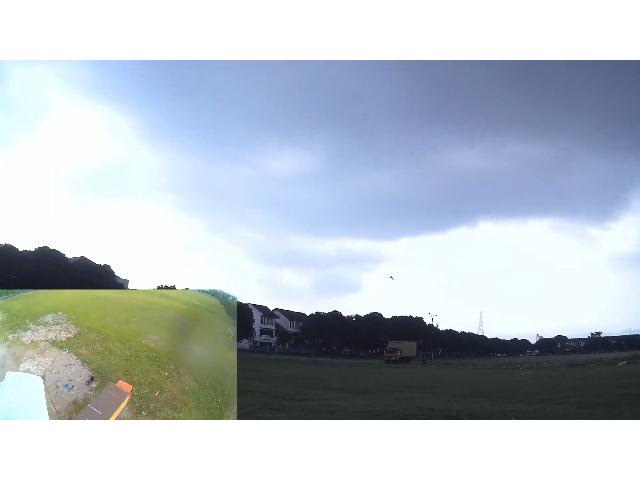Anti-Drone: (385, 271, 403, 285)
